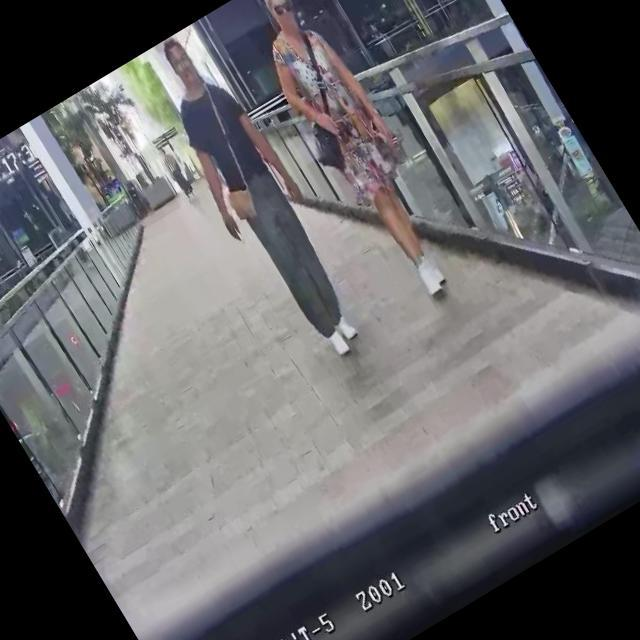person: (127, 22, 386, 375), (226, 0, 478, 313), (154, 142, 198, 204)
